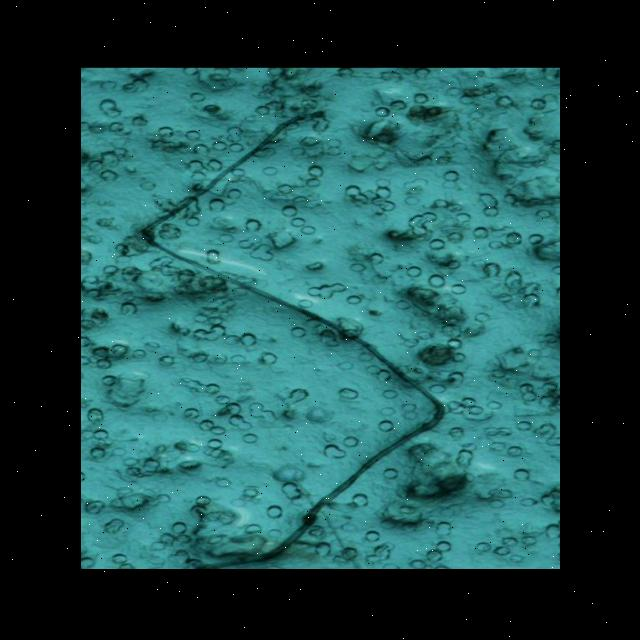Fibre: (134, 109, 452, 569)
